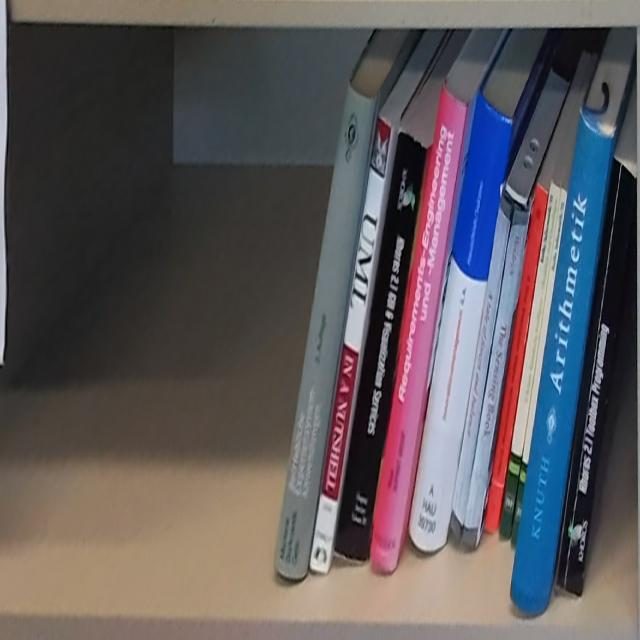Book Spine: (509, 111, 614, 617), (276, 82, 379, 578), (409, 94, 512, 553), (371, 86, 468, 571), (335, 128, 428, 564), (311, 110, 394, 577), (556, 158, 636, 599), (450, 191, 532, 552), (485, 184, 550, 537), (499, 182, 562, 540), (510, 190, 568, 548)
